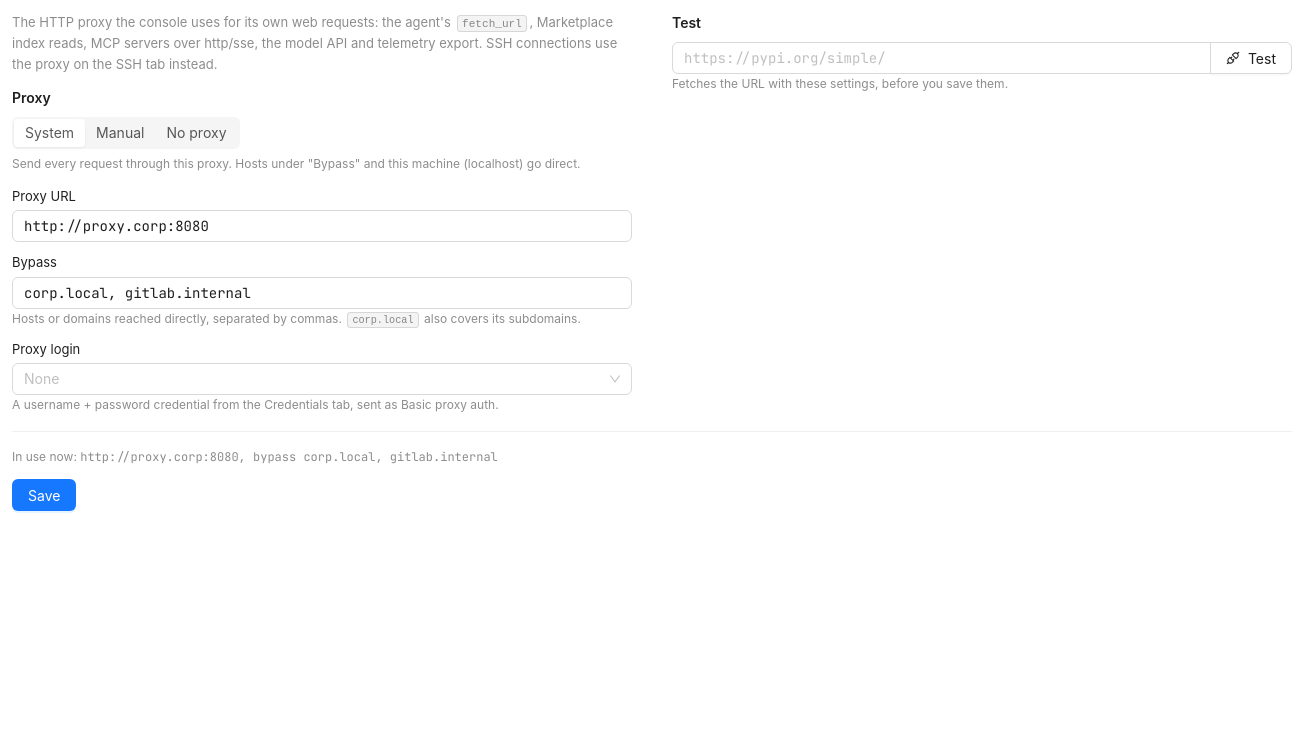
Settings → Network › tests the unsaved settings and reports the route
Expected: the field named "Proxy URL" is shown, [12, 210, 632, 242]
Type "https://example.com" into the field named "Test URL" at (941, 58), box [672, 42, 1211, 74]
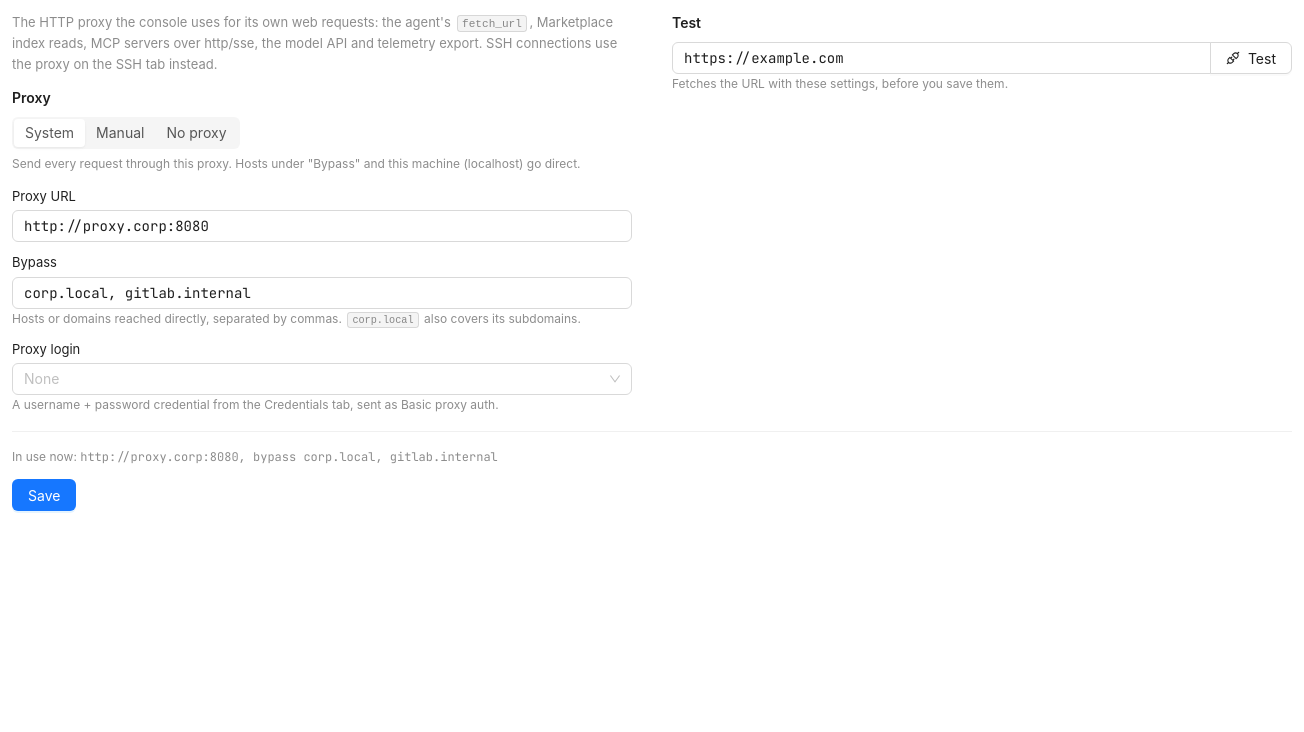
Click the button "Test" at (1251, 58), box [1210, 42, 1292, 74]
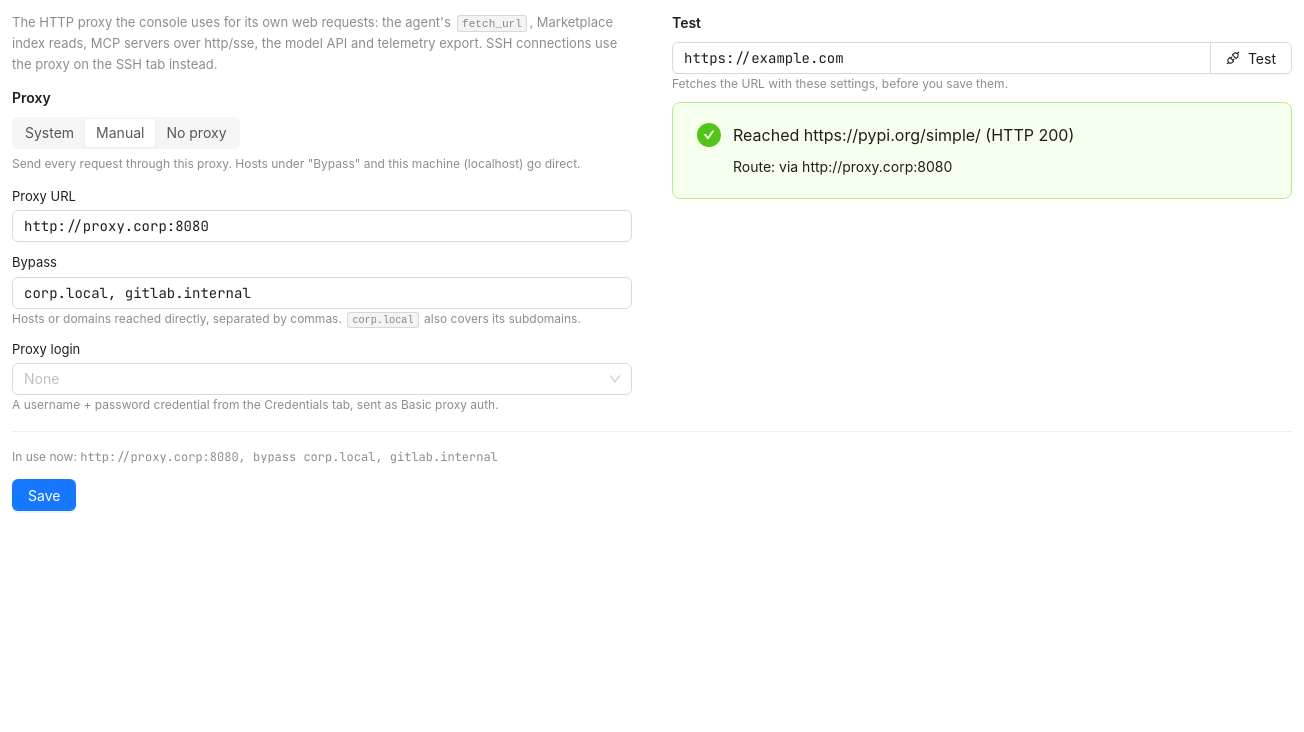
Now the text "Reached https://pypi.org/simple/ (HTTP 200)" is shown, box [733, 125, 1074, 145]
Now the text "Route: via http://proxy.corp:8080" is shown, box [733, 158, 952, 175]
